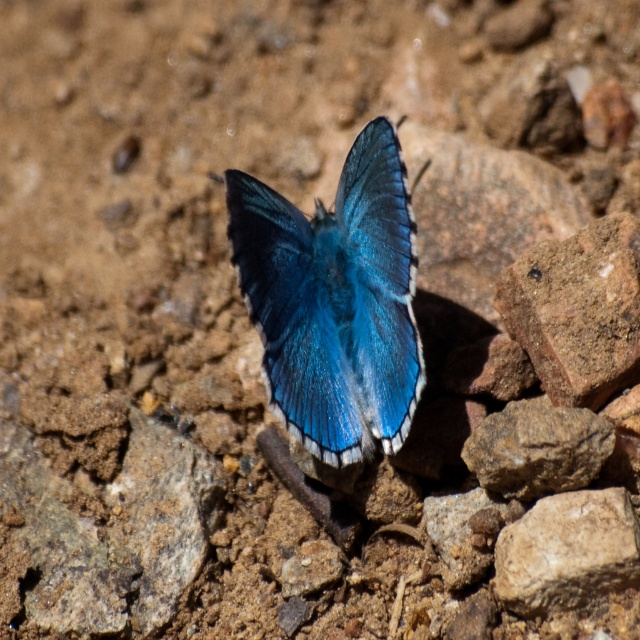Butterfly: (226, 111, 438, 501)
